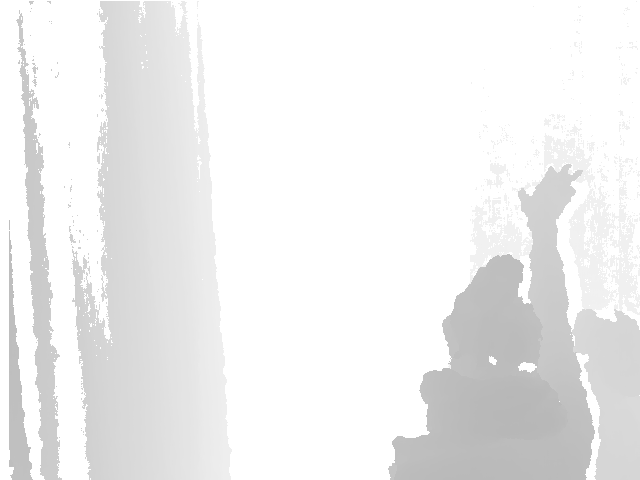hand: (517, 163, 582, 224)
head: (442, 255, 545, 373)
person: (385, 163, 596, 480)
